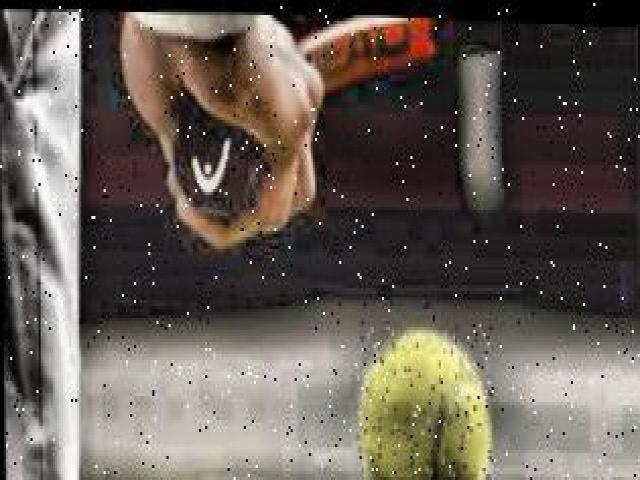tennis-ball: (354, 329, 496, 477)
